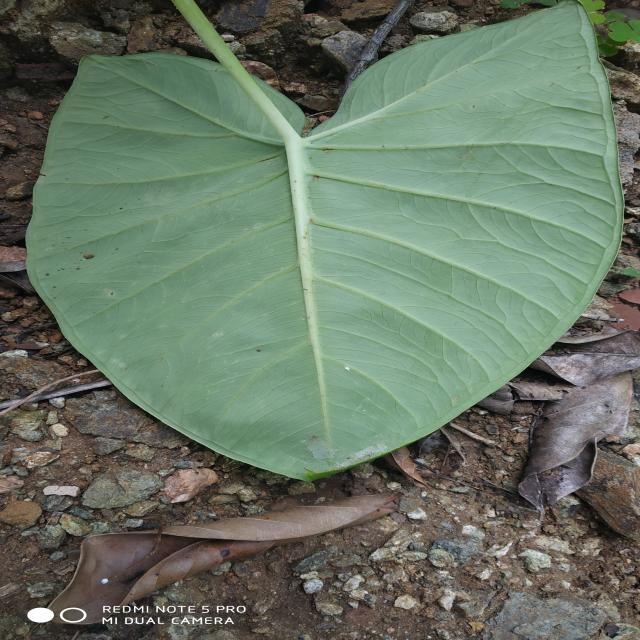taro: (29, 0, 622, 480)
